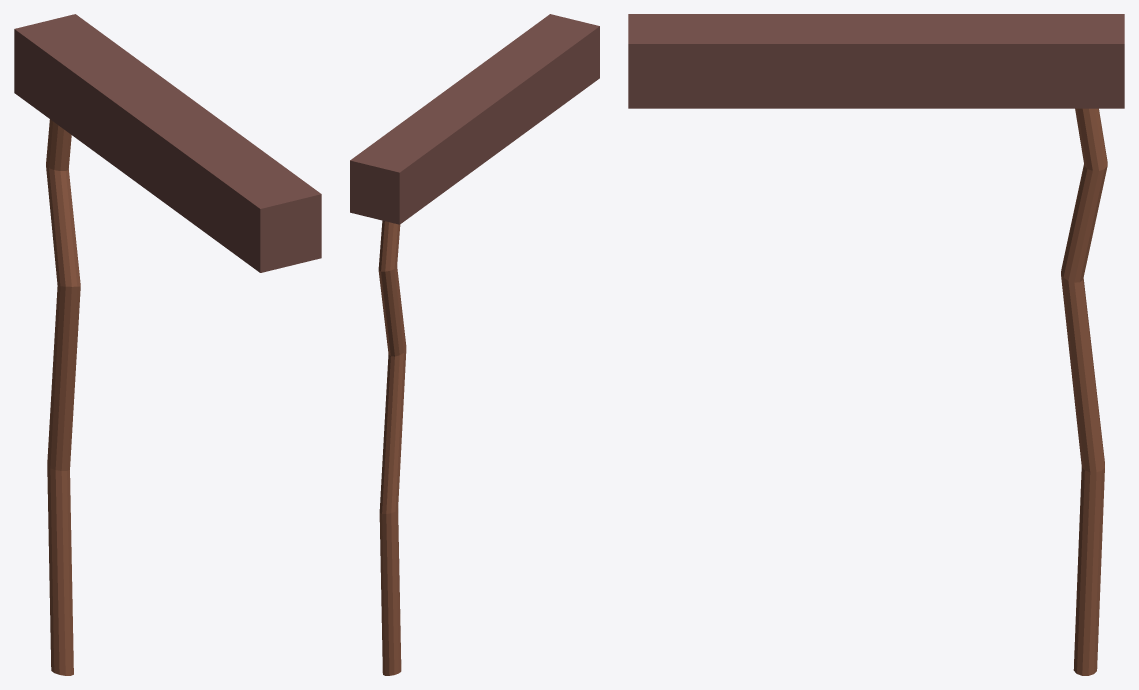
File: DarkRoseWoodMechSmallRopeSwing1.fbx
The picture shows the model from 3 angles, left to right: view 1: azimuth 30°, elevation 25°; view 2: azimuth 150°, elevation 25°; view 3: azimuth 270°, elevation 25°; orthographic projection. The views are drawn at different scales.
Visible parts, largest first — view 1: DarkRoseWoodMechSmallRopeSwing1Support, DarkRoseWoodMechSmallRopeSwing1Rope; view 2: DarkRoseWoodMechSmallRopeSwing1Support, DarkRoseWoodMechSmallRopeSwing1Rope; view 3: DarkRoseWoodMechSmallRopeSwing1Support, DarkRoseWoodMechSmallRopeSwing1Rope.
Part boxes in pixels (x1,y1,x2,y2): DarkRoseWoodMechSmallRopeSwing1Support: (14, 14, 321, 272); DarkRoseWoodMechSmallRopeSwing1Rope: (46, 119, 80, 675); DarkRoseWoodMechSmallRopeSwing1Support: (350, 14, 599, 224); DarkRoseWoodMechSmallRopeSwing1Rope: (378, 220, 406, 675); DarkRoseWoodMechSmallRopeSwing1Support: (628, 14, 1124, 108); DarkRoseWoodMechSmallRopeSwing1Rope: (1061, 108, 1107, 675).
Size of the model in its own units: 59.19 by 589 by 412.
